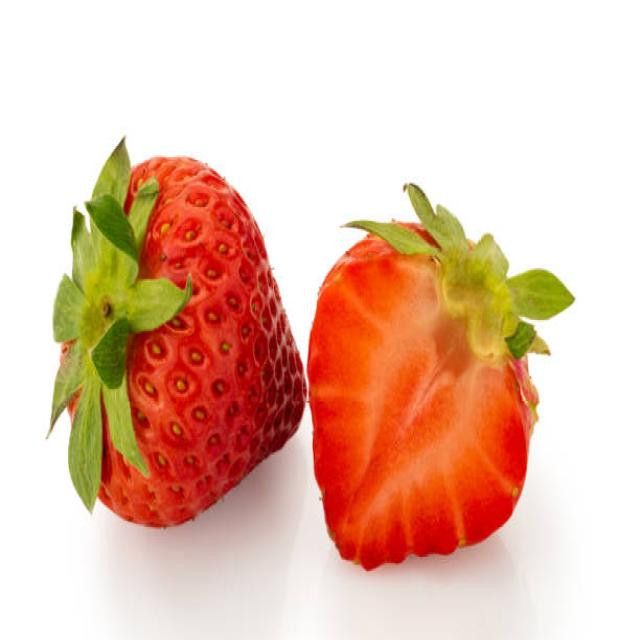Healthy Fruit: (58, 155, 306, 528)
